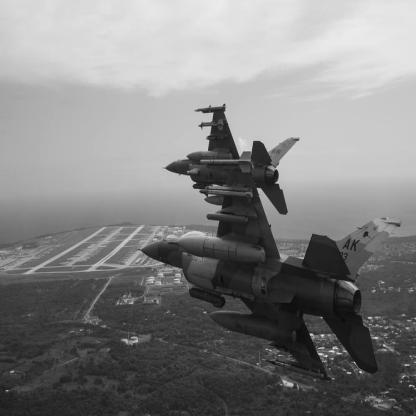F16: (137, 152, 404, 386), (162, 104, 301, 230)
